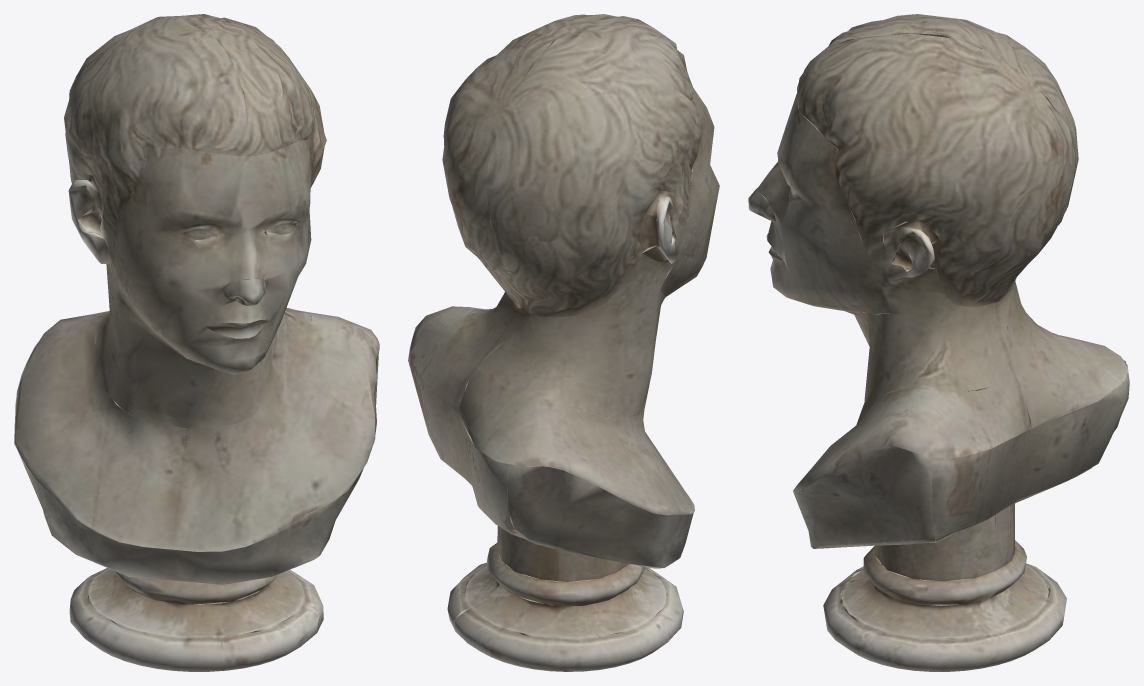
The model's file is bust.glb.
The picture shows the model from 3 angles, left to right: view 1: azimuth 30°, elevation 25°; view 2: azimuth 150°, elevation 25°; view 3: azimuth 270°, elevation 25°; orthographic projection. The views are drawn at different scales.
Parts seen in each view (by area): view 1: marble_bust_01; view 2: marble_bust_01; view 3: marble_bust_01.
Boxes of the visible parts, bbox=[...] form: marble_bust_01: bbox=[14, 14, 379, 671]; marble_bust_01: bbox=[408, 14, 719, 671]; marble_bust_01: bbox=[748, 14, 1129, 671].
Bounding box in the file's own units: 0.2724 × 0.515 × 0.2992.
1 material, 1 textured.
